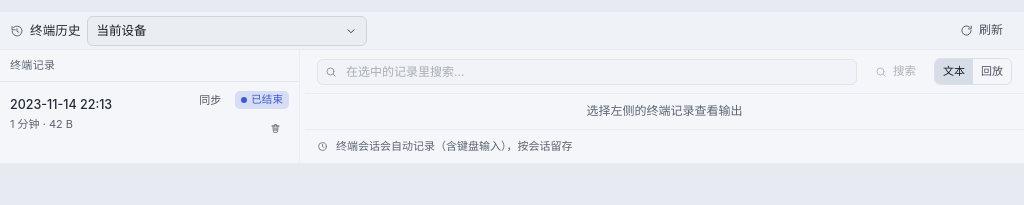
Test case: TranscriptHistoryPanel › renders only output chunks; input and resize never enter the text stream
Click the row "2023-11-14 22:13 1 分钟 · 42 B 同步 已结束" at (61, 104), box [0,82,299,146]
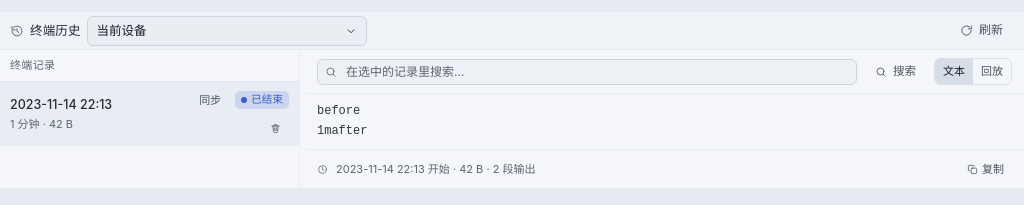
Check: the element showing "before 1mafter" is shown, box [317,104,367,138]
